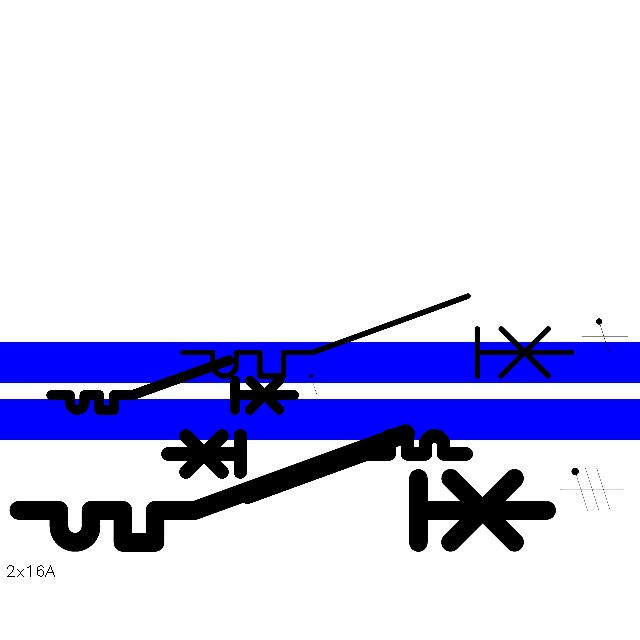interruptor_termomagnetico: (5, 420, 560, 556), (173, 286, 581, 386), (160, 428, 474, 505), (45, 354, 300, 416)
